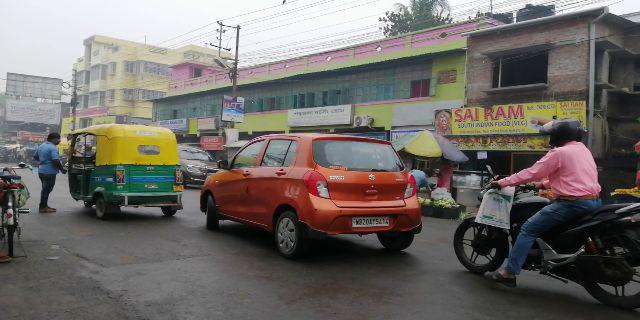Autorickshaw: (73, 123, 187, 218)
Car: (213, 133, 427, 268)
Motorbike: (452, 119, 628, 291)
